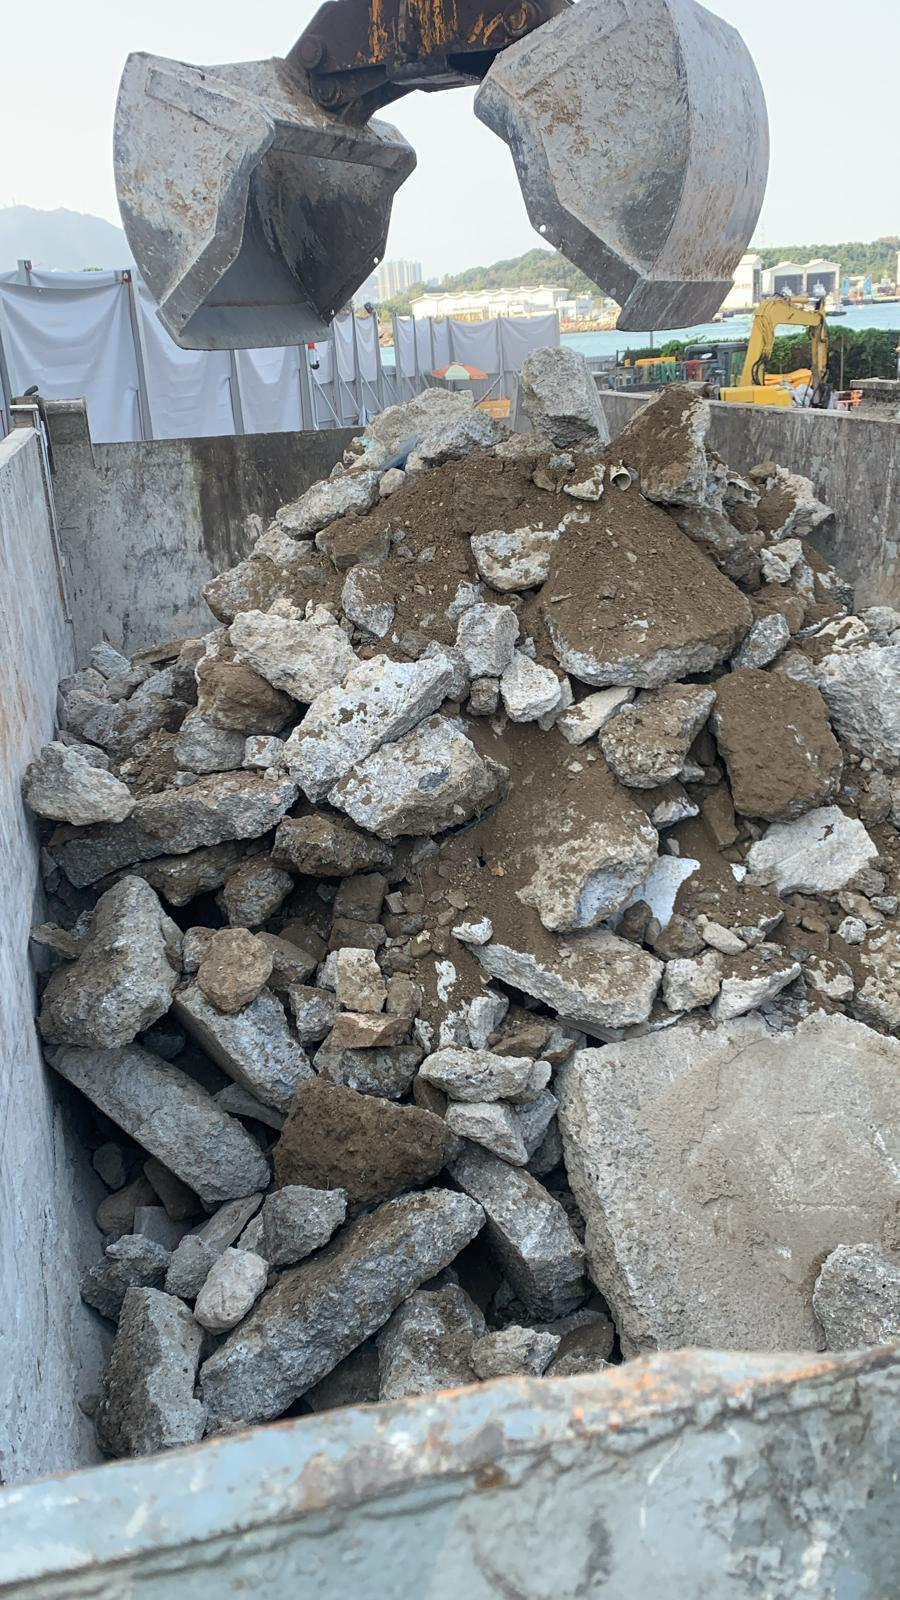dry: (80, 385, 882, 1390)
